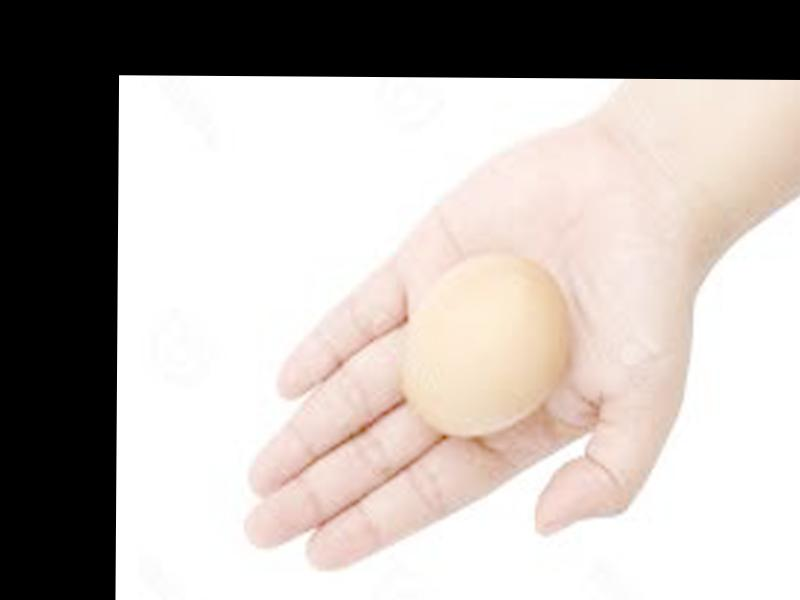Eggs: (405, 253, 572, 435)
